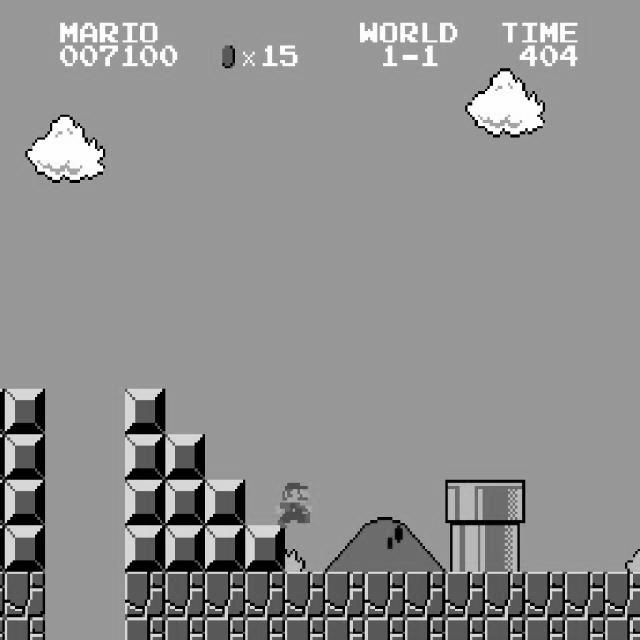11- little_mario: (272, 479, 316, 528)
14- pipe: (444, 526, 486, 572), (484, 526, 526, 572)
15- pipe_head: (444, 480, 486, 526), (484, 480, 526, 526)
17- undestructible_block: (124, 572, 166, 618), (164, 572, 206, 618), (204, 572, 246, 618), (244, 572, 286, 618), (284, 572, 326, 618), (324, 572, 366, 618), (364, 572, 406, 618), (404, 572, 446, 618), (444, 572, 486, 618), (484, 572, 526, 618), (524, 572, 566, 618), (564, 572, 606, 618), (5, 572, 46, 618), (605, 572, 640, 618), (124, 617, 166, 640), (164, 617, 206, 640), (204, 617, 246, 640), (244, 617, 286, 640), (284, 617, 326, 640), (324, 617, 366, 640), (364, 617, 406, 640), (404, 617, 446, 640), (444, 617, 486, 640), (484, 617, 526, 640), (524, 617, 566, 640), (564, 617, 606, 640), (5, 617, 46, 640), (605, 617, 640, 640), (0, 572, 5, 618), (0, 617, 5, 640)
9- hard_block: (124, 388, 166, 434), (124, 434, 166, 480), (124, 480, 166, 526), (124, 526, 166, 572), (164, 434, 206, 480), (164, 480, 206, 526), (164, 526, 206, 572), (204, 480, 246, 526), (204, 526, 246, 572), (244, 526, 286, 572), (5, 388, 46, 434), (5, 434, 46, 480), (5, 480, 46, 526), (5, 526, 46, 572), (0, 388, 5, 434), (0, 434, 5, 480), (0, 480, 5, 526), (0, 526, 5, 572)
